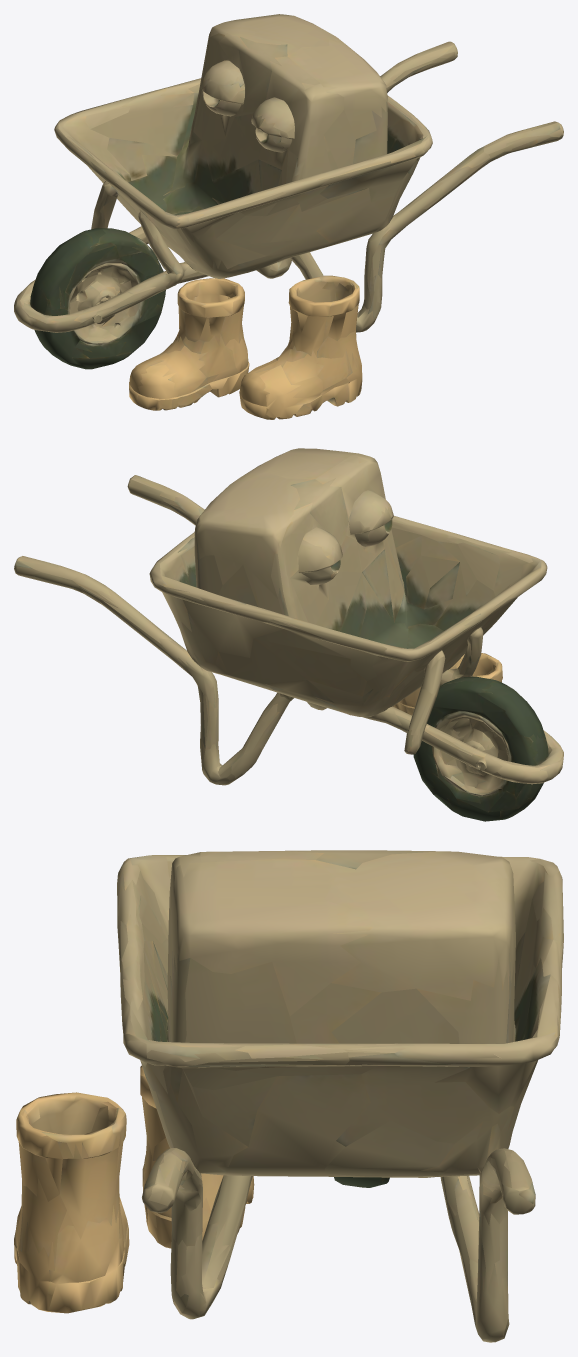
File: wheelbarrow.glb
3 views of the same model, one above another, from view 1: azimuth 30°, elevation 25°; view 2: azimuth 150°, elevation 25°; view 3: azimuth 270°, elevation 25° (orthographic). The views are drawn at different scales.
Visible parts, largest first — view 1: Mesh_0; view 2: Mesh_0; view 3: Mesh_0.
Part boxes in pixels (<box>): Mesh_0: <box>14,14,563,419</box>; Mesh_0: <box>14,448,563,821</box>; Mesh_0: <box>14,850,563,1342</box>.
Size of the model in its own units: 1.9 by 1.04 by 1.13.
1 material, 1 textured.
